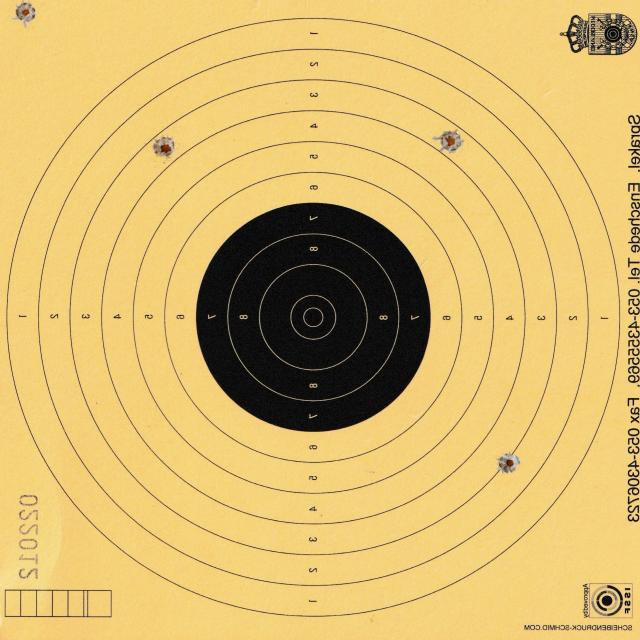0: (8, 0, 39, 25)
3: (433, 129, 466, 154), (151, 133, 178, 160), (496, 453, 522, 476)
Target: (5, 17, 622, 618)
black_contour: (196, 202, 430, 432)
